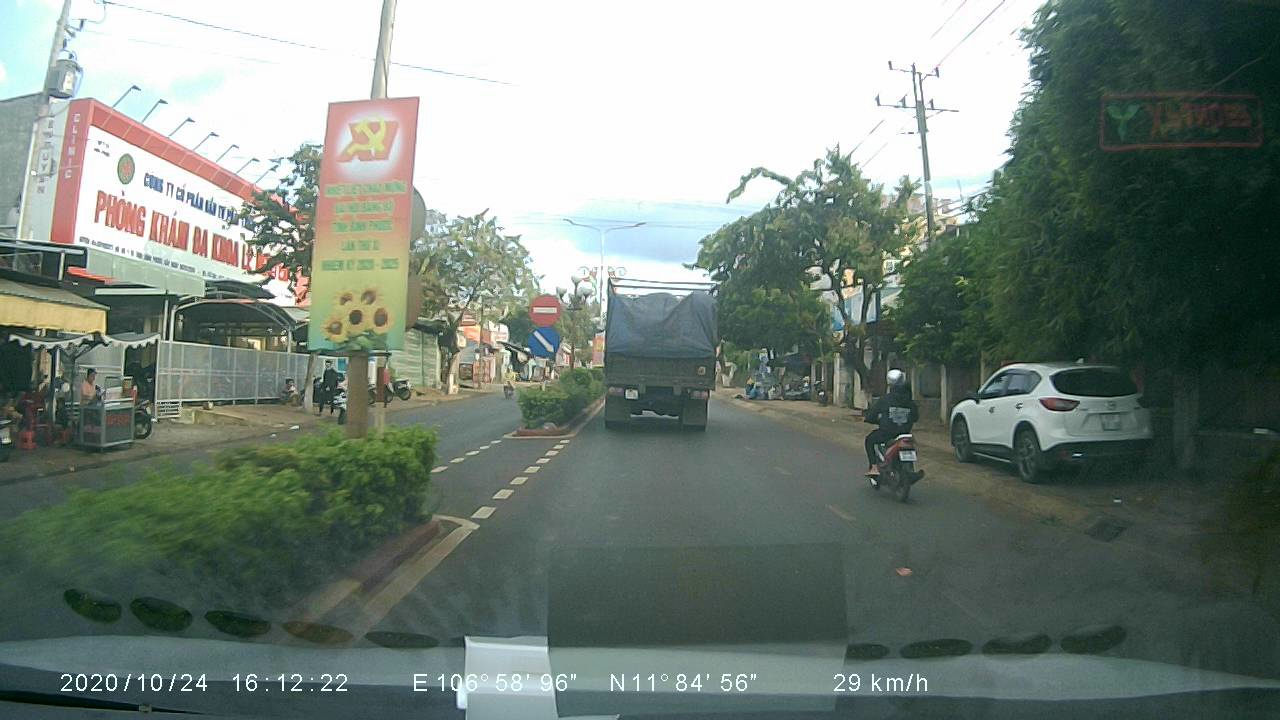Cam di nguoc chieu: (528, 291, 561, 327)
Huong di phai re phai: (528, 326, 560, 357)
